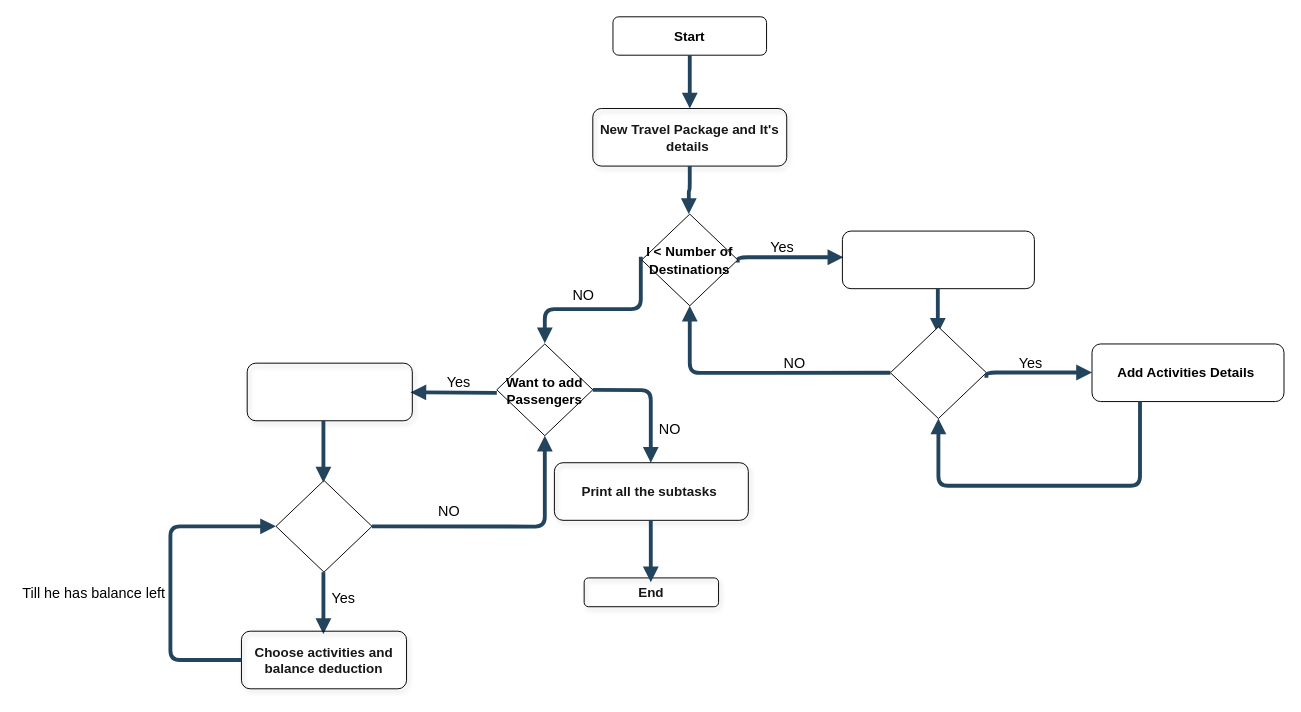
Image size: 1301x712. Some labels were removed from this diagram. Each missing label, with the centre of its shape:
"Destination Details, Number of Activties" belongs at (937,259).
"I < Number of Activities" belongs at (937,372).
"Passenger Details" belongs at (330,392).
"Want to enroll in activities" belongs at (323,526).
